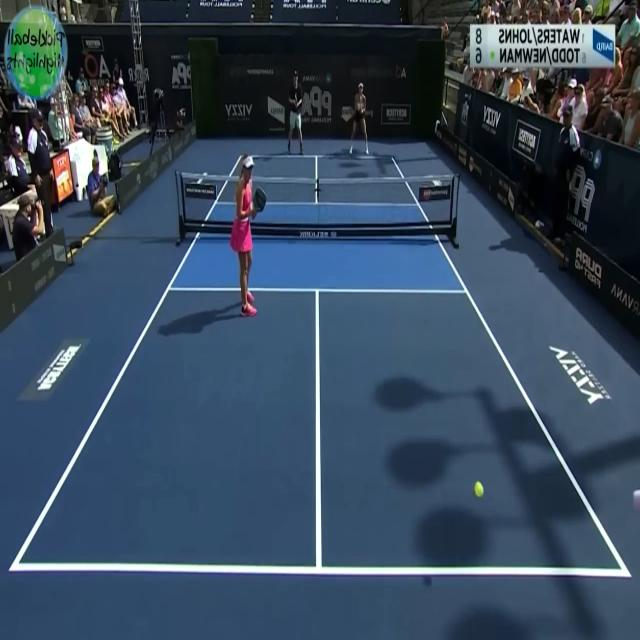Pickleball: (473, 478, 485, 500)
